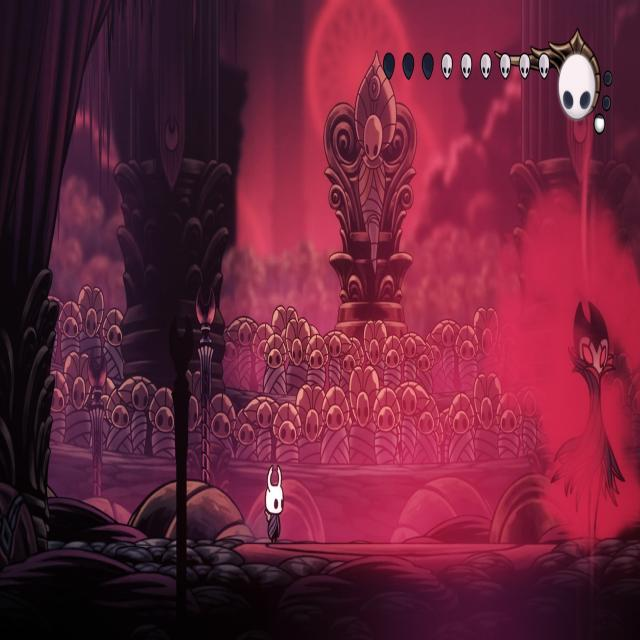Grimm: (548, 295, 626, 543)
Player: (262, 460, 286, 546)
